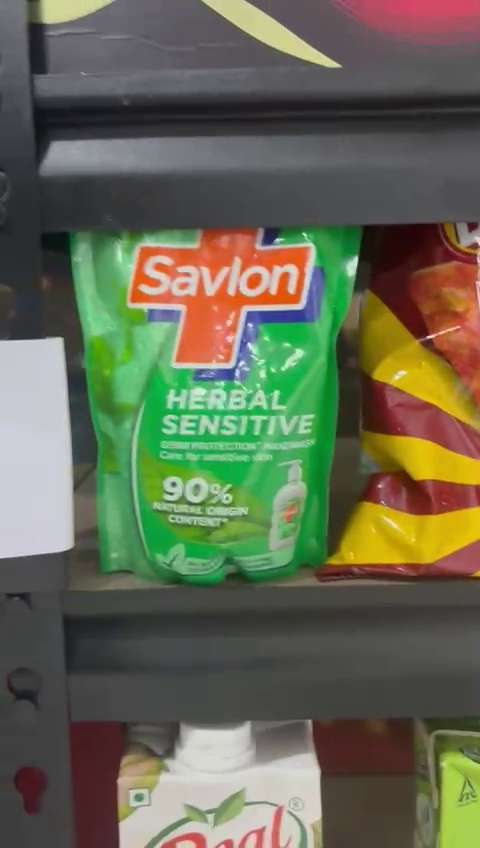Savlon Herbal: (70, 226, 352, 571)
